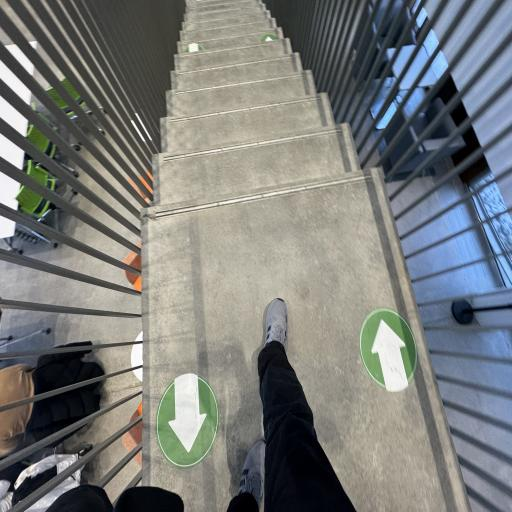Stairs: (142, 0, 469, 512)
